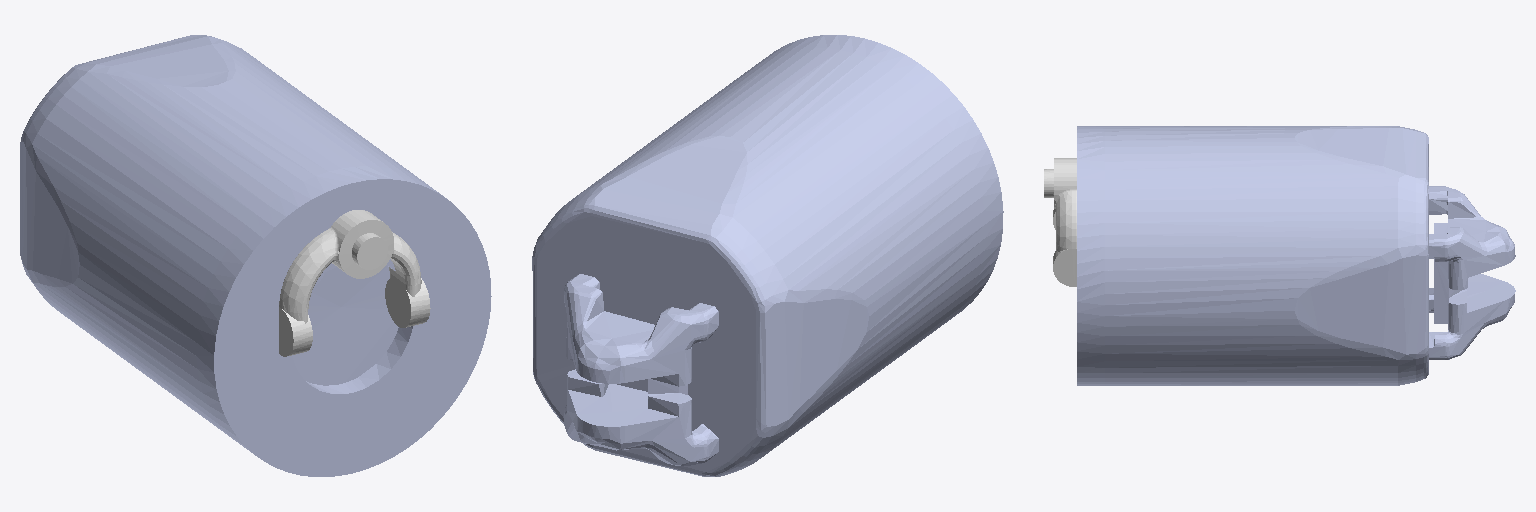
robot.urdf — j2s6s300:
<?xml version="1.0" ?>
<!-- =================================================================================== -->
<!-- |    This document was autogenerated by xacro from j2s6s300_standalone.xacro      | -->
<!-- |    EDITING THIS FILE BY HAND IS NOT RECOMMENDED                                 | -->
<!-- =================================================================================== -->
<!-- j2s6_3 refers to jaco v2 6DOF spherical 3fingers -->
<robot name="j2s6s300" xmlns:body="http://playerstage.sourceforge.net/gazebo/xmlschema/#body" xmlns:controller="http://playerstage.sourceforge.net/gazebo/xmlschema/#controller" xmlns:gazebo="http://playerstage.sourceforge.net/gazebo/xmlschema/#gz" xmlns:geom="http://playerstage.sourceforge.net/gazebo/xmlschema/#geom" xmlns:interface="http://playerstage.sourceforge.net/gazebo/xmlschema/#interface" xmlns:joint="http://playerstage.sourceforge.net/gazebo/xmlschema/#joint" xmlns:model="http://playerstage.sourceforge.net/gazebo/xmlschema/#model" xmlns:physics="http://playerstage.sourceforge.net/gazebo/xmlschema/#physics" xmlns:renderable="http://playerstage.sourceforge.net/gazebo/xmlschema/#renderable" xmlns:rendering="http://playerstage.sourceforge.net/gazebo/xmlschema/#rendering" xmlns:sensor="http://playerstage.sourceforge.net/gazebo/xmlschema/#sensor" xmlns:xi="http://www.w3.org/2001/XInclude">
  <!-- links      		mesh_no
   base           		0
   shoulder       		1
   arm            		2
   forearm        		3
   wrist          		4
   arm_mico       		5
   arm_half1 (7dof)		6
   arm_half2 (7dof)		7
   wrist_spherical_1  8
   wrist_spherical_2  9

   hand 3 finger  		55
   hand_2finger   		56
   finger_proximal		57
   finger_distal      58
-->
  <!-- links      		mesh_no
   base           		0
   shoulder       		1
   arm            		2
   forearm        		3
   wrist          		4
   arm_mico       		5
   arm_half1 (7dof)		6
   arm_half2 (7dof)		7
   wrist_spherical_1  8
   wrist_spherical_2  9

   hand 3 finger  		55
   hand_2finger   		56
   finger_proximal		57
   finger_distal      58
-->

  <link name="world"/>

  <link name="j2s6s300_link_base">
    <visual>
      <geometry>
        <mesh filename="meshes/jaco2arm/base.dae"/>
      </geometry>
      <material name="carbon_fiber">
        <color rgba="0.792156862745098 0.819607843137255 0.933333333333333 1"/>
      </material>
    </visual>
    <collision>
      <geometry>
        <mesh filename="meshes/jaco2arm/base.dae"/>
      </geometry>
    </collision>
    <inertial>
      <mass value="0.46784"/>
      <origin rpy="0 0 0" xyz="0 0 0.1255"/>
      <inertia ixx="0.000951270861568" ixy="0" ixz="0" iyy="0.000951270861568" iyz="0" izz="0.00037427200000000004"/>
    </inertial>
  </link>
  <joint name="j2s6s300_joint_base" type="fixed">
    <parent link="world"/>
    <child link="j2s6s300_link_base"/>
    <axis xyz="0 0 0"/>
    <limit effort="0" lower="0" upper="0" velocity="0"/>
    <origin rpy="0 0 0" xyz="0 0 0"/>
    <dynamics damping="0.0" friction="0.0"/>
  </joint>
  <link name="j2s6s300_link_1">
    <visual>
      <geometry>
        <mesh filename="meshes/jaco2arm/shoulder.dae"/>
      </geometry>
      <material name="carbon_fiber">
        <color rgba="0.792156862745098 0.819607843137255 0.933333333333333 1"/>
      </material>
    </visual>
    <visual>
      <geometry>
        <mesh filename="meshes/jaco2arm/ring_big.dae"/>
      </geometry>
    </visual>
    <collision>
      <geometry>
        <mesh filename="meshes/jaco2arm/shoulder.dae"/>
      </geometry>
    </collision>
    <inertial>
      <mass value="0.7477"/>
      <origin xyz="0 -0.002 -0.0605"/>
      <inertia ixx="0.0015203172520400004" ixy="0" ixz="0" iyy="0.0015203172520400004" iyz="0" izz="0.00059816"/>
    </inertial>
  </link>
  <joint name="j2s6s300_joint_1" type="continuous">
    <parent link="j2s6s300_link_base"/>
    <child link="j2s6s300_link_1"/>
    <axis xyz="0 0 1"/>
    <limit effort="40" lower="-6.283185307179586" upper="6.283185307179586" velocity="0.6283185307179586"/>
    <origin rpy="0 3.141592653589793 0" xyz="0 0 0.15675"/>
    <dynamics damping="0.0" friction="0.0"/>
  </joint>


  <link name="j2s6s300_link_2">
    <visual>
      <geometry>
        <mesh filename="meshes/jaco2arm/arm.dae"/>
      </geometry>
      <material name="carbon_fiber">
        <color rgba="0.792156862745098 0.819607843137255 0.933333333333333 1"/>
      </material>
    </visual>
    <visual>
      <geometry>
        <mesh filename="meshes/jaco2arm/ring_big.dae"/>
      </geometry>
    </visual>
    <collision>
      <geometry>
        <mesh filename="meshes/jaco2arm/arm.dae"/>
      </geometry>
    </collision>
    <inertial>
      <mass value="0.99"/>
      <origin xyz="0 -0.2065 -0.01"/>
      <inertia ixx="0.010502207990999999" ixy="0" ixz="0" iyy="0.0007920000000000001" iyz="0" izz="0.010502207990999999"/>
    </inertial>
  </link>
  <joint name="j2s6s300_joint_2" type="revolute">
    <parent link="j2s6s300_link_1"/>
    <child link="j2s6s300_link_2"/>
    <axis xyz="0 0 1"/>
    <limit effort="80" lower="0.8203047484373349" upper="5.462880558742252" velocity="0.6283185307179586"/>
    <origin rpy="-1.5707963267948966 0 3.141592653589793" xyz="0 0.0016 -0.11875"/>
    <dynamics damping="0.0" friction="0.0"/>
  </joint>

  <link name="j2s6s300_link_3">
    <visual>
      <geometry>
        <mesh filename="meshes/jaco2arm/forearm.dae"/>
      </geometry>
      <material name="carbon_fiber">
        <color rgba="0.792156862745098 0.819607843137255 0.933333333333333 1"/>
      </material>
    </visual>
    <visual>
      <geometry>
        <mesh filename="meshes/jaco2arm/ring_big.dae"/>
      </geometry>
    </visual>
    <collision>
      <geometry>
        <mesh filename="meshes/jaco2arm/forearm.dae"/>
      </geometry>
    </collision>
    <inertial>
      <mass value="0.6763"/>
      <origin xyz="0 0.081 -0.0086"/>
      <inertia ixx="0.0014202243190800001" ixy="0" ixz="0" iyy="0.000304335" iyz="0" izz="0.0014202243190800001"/>
    </inertial>
  </link>
  <joint name="j2s6s300_joint_3" type="revolute">
    <parent link="j2s6s300_link_2"/>
    <child link="j2s6s300_link_3"/>
    <axis xyz="0 0 1"/>
    <limit effort="40" lower="0.33161255787892263" upper="5.951572749300664" velocity="0.6283185307179586"/>
    <origin rpy="0 3.141592653589793 0" xyz="0 -0.410 0"/>
    <dynamics damping="0.0" friction="0.0"/>
  </joint>

  <link name="j2s6s300_link_4">
    <visual>
      <geometry>
        <mesh filename="meshes/jaco2arm/wrist_spherical_1.dae"/>
      </geometry>
      <material name="carbon_fiber">
        <color rgba="0.792156862745098 0.819607843137255 0.933333333333333 1"/>
      </material>
    </visual>
    <visual>
      <geometry>
        <mesh filename="meshes/jaco2arm/ring_small.dae"/>
      </geometry>
    </visual>
    <collision>
      <geometry>
        <mesh filename="meshes/jaco2arm/wrist_spherical_1.dae"/>
      </geometry>
    </collision>
    <inertial>
      <mass value="0.463"/>
      <origin xyz="0 0.0028848942 -0.0541932613"/>
      <inertia ixx="0.0004321316048000001" ixy="0" ixz="0" iyy="0.0004321316048000001" iyz="0" izz="9.260000000000001e-05"/>
    </inertial>
  </link>
  <joint name="j2s6s300_joint_4" type="continuous">
    <parent link="j2s6s300_link_3"/>
    <child link="j2s6s300_link_4"/>
    <axis xyz="0 0 1"/>
    <limit effort="20" lower="-6.283185307179586" upper="6.283185307179586" velocity="0.8377580409572781"/>
    <origin rpy="-1.5707963267948966 0 3.141592653589793" xyz="0 0.2073 -0.0114"/>
    <dynamics damping="0.0" friction="0.0"/>
  </joint>

  <link name="j2s6s300_link_5">
    <visual>
      <geometry>
        <mesh filename="meshes/jaco2arm/wrist_spherical_2.dae"/>
      </geometry>
      <material name="carbon_fiber">
        <color rgba="0.792156862745098 0.819607843137255 0.933333333333333 1"/>
      </material>
    </visual>
    <visual>
      <geometry>
        <mesh filename="meshes/jaco2arm/ring_small.dae"/>
      </geometry>
    </visual>
    <collision>
      <geometry>
        <mesh filename="meshes/jaco2arm/wrist_spherical_2.dae"/>
      </geometry>
    </collision>
    <inertial>
      <mass value="0.463"/>
      <origin xyz="0 0.0497208855 -0.0028562765"/>
      <inertia ixx="0.0004321316048000001" ixy="0" ixz="0" iyy="9.260000000000001e-05" iyz="0" izz="0.0004321316048000001"/>
    </inertial>
  </link>
  <joint name="j2s6s300_joint_5" type="revolute">
    <parent link="j2s6s300_link_4"/>
    <child link="j2s6s300_link_5"/>
    <axis xyz="0 0 1"/>
    <limit effort="20" lower="0.5235987755982988" upper="5.759586531581287" velocity="0.8377580409572781"/>
    <origin rpy="1.5707963267948966 0 3.141592653589793" xyz="0 0 -0.10375"/>
    <dynamics damping="0.0" friction="0.0"/>
  </joint>

  <link name="j2s6s300_link_6">
    <visual>
      <geometry>
        <mesh filename="meshes/jaco2arm/wrist.dae"/>
      </geometry>
    </visual>
    <collision>
      <geometry>
        <mesh filename="meshes/jaco2arm/ring_small.dae"/>
      </geometry>
    </collision>
    <inertial>
      <mass value="0.99"/>
      <origin xyz="0 0 -0.06"/>
      <inertia ixx="0.00034532361869999995" ixy="0" ixz="0" iyy="0.00034532361869999995" iyz="0" izz="0.0005815999999999999"/>
    </inertial>
  </link>
  <joint name="j2s6s300_joint_6" type="continuous">
    <parent link="j2s6s300_link_5"/>
    <child link="j2s6s300_link_6"/>
    <axis xyz="0 0 1"/>
    <limit effort="20" lower="-6.283185307179586" upper="6.283185307179586" velocity="0.8377580409572781"/>
    <!-- origin rpy="-1.5707963267948966 0 3.141592653589793" xyz="0 0.10375 0"/-->
    <origin rpy="-1.5707963267948966 0 3.141592653589793" xyz="0 0.10375 0"/>
    <dynamics damping="0.0" friction="0.0"/>
  </joint>

  <joint name="ee_fixed_joint" type="fixed">
    <parent link="j2s6s300_link_6"/>
    <child link="ee_link"/>
    <!--origin rpy="2.094395102 0.0 0.0" xyz="0.0 -0.03705 -0.06417"/-->
    <origin rpy="2.094395102 0.0 0.0" xyz="0.0 -0.03705 -0.06417"/>
    <!--origin rpy="0.0 0.0 0.0" xyz="0.0 0.0922 0.0"/-->
  </joint>
  <link name="ee_link">
    <collision>
      <geometry>
        <box size="0.01 0.01 0.01"/>
      </geometry>
      <origin rpy="0 0 0" xyz="0 0 0"/>
    </collision>
  </link>

</robot>

--- Facts derived from the render (not from the file) ---
Views: 3 orthographic renders of the robot side by side, from view 1: azimuth 30°, elevation 25°; view 2: azimuth 150°, elevation 25°; view 3: azimuth 270°, elevation 25°.
Robot: j2s6s300 — 9 links, 8 joints (3 revolute, 3 continuous, 2 fixed); root link world; default pose: joints at zero except 3 at the middle of their limits (j2s6s300_joint_2 = 3.14, j2s6s300_joint_3 = 3.14, j2s6s300_joint_5 = 3.14).
Links seen in each view (by area): view 1: j2s6s300_link_3, j2s6s300_link_6; view 2: j2s6s300_link_3; view 3: j2s6s300_link_3, j2s6s300_link_6.
Boxes of the visible links, <box> form: j2s6s300_link_3: <box>20,35,491,476</box>; j2s6s300_link_6: <box>279,210,430,356</box>; j2s6s300_link_3: <box>532,35,1003,476</box>; j2s6s300_link_3: <box>1077,126,1515,385</box>; j2s6s300_link_6: <box>1044,158,1076,286</box>.
Bounding box of the posed robot: 1.35 × 2.45 × 1.35 m (x, y, z).
2 mesh visuals loaded from 9 distinct referenced files (2 Collada DAE); not drawn: 10 (reference not matched to a file when rendering).